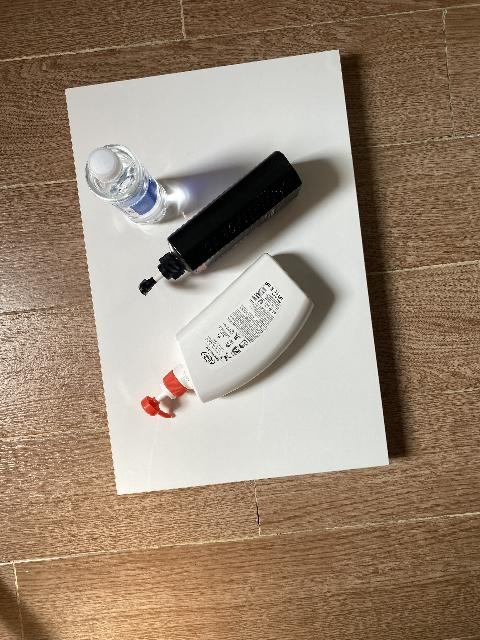X-men: (139, 151, 302, 295)
aquafina: (85, 144, 169, 225)
life-buoy: (140, 253, 314, 419)
